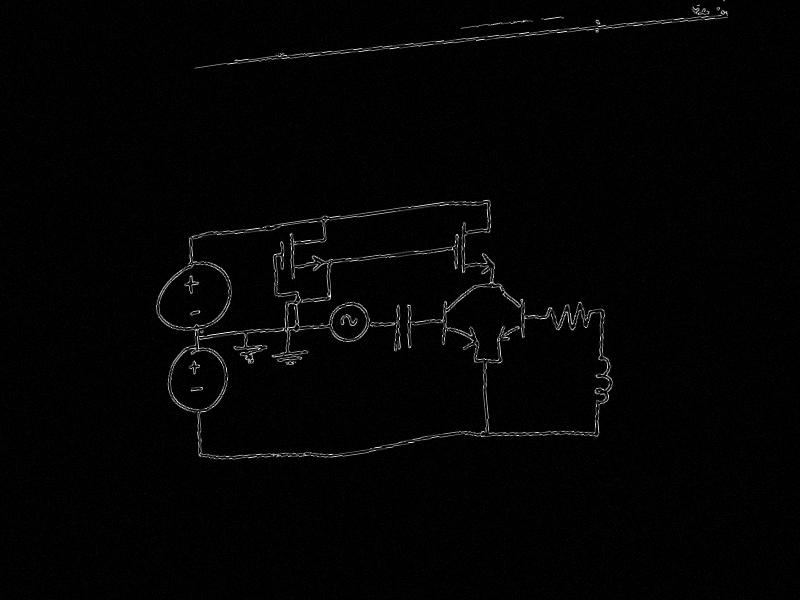-: (189, 385, 205, 394), (188, 308, 202, 317)
